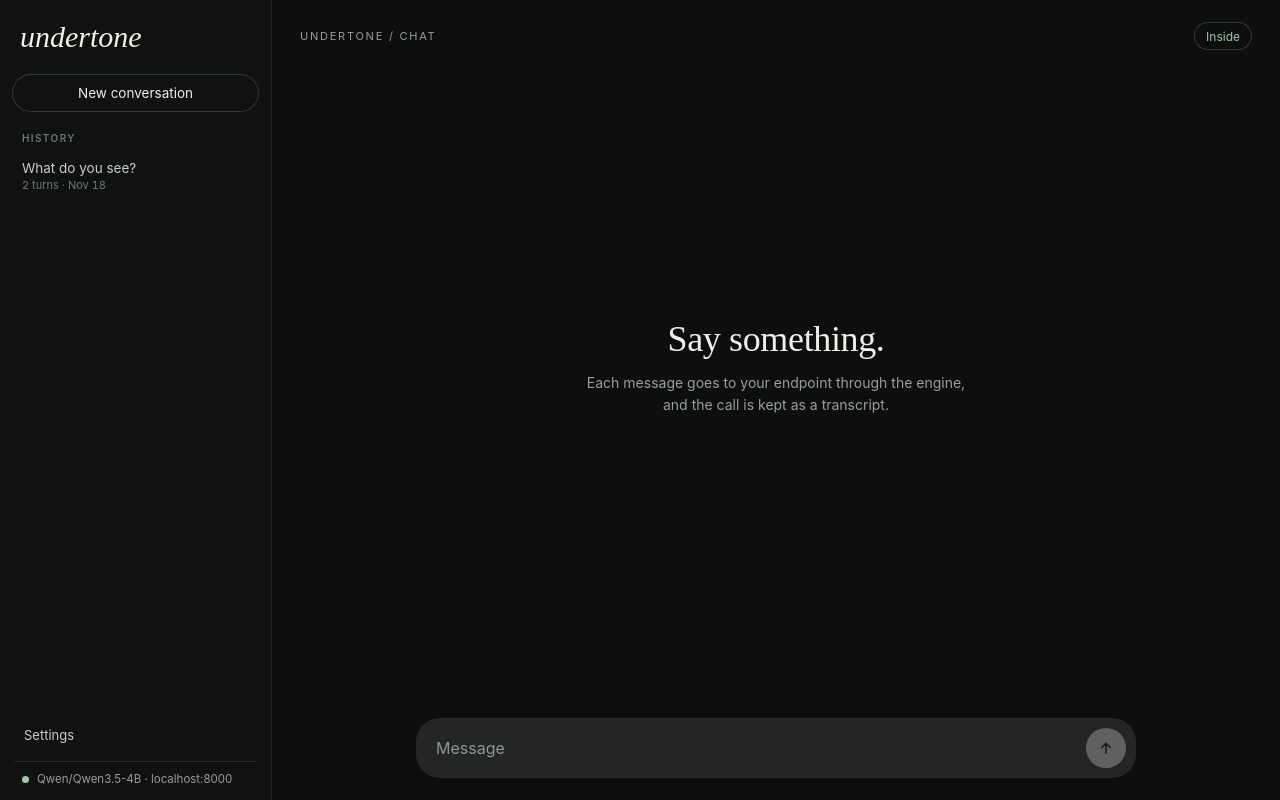
Test: Inside the model › turns to a word while it is pointed at, and keeps to one that is pressed
Click the button "What do you see? 2 turns · Nov 18" at (136, 176), box [12, 152, 259, 200]
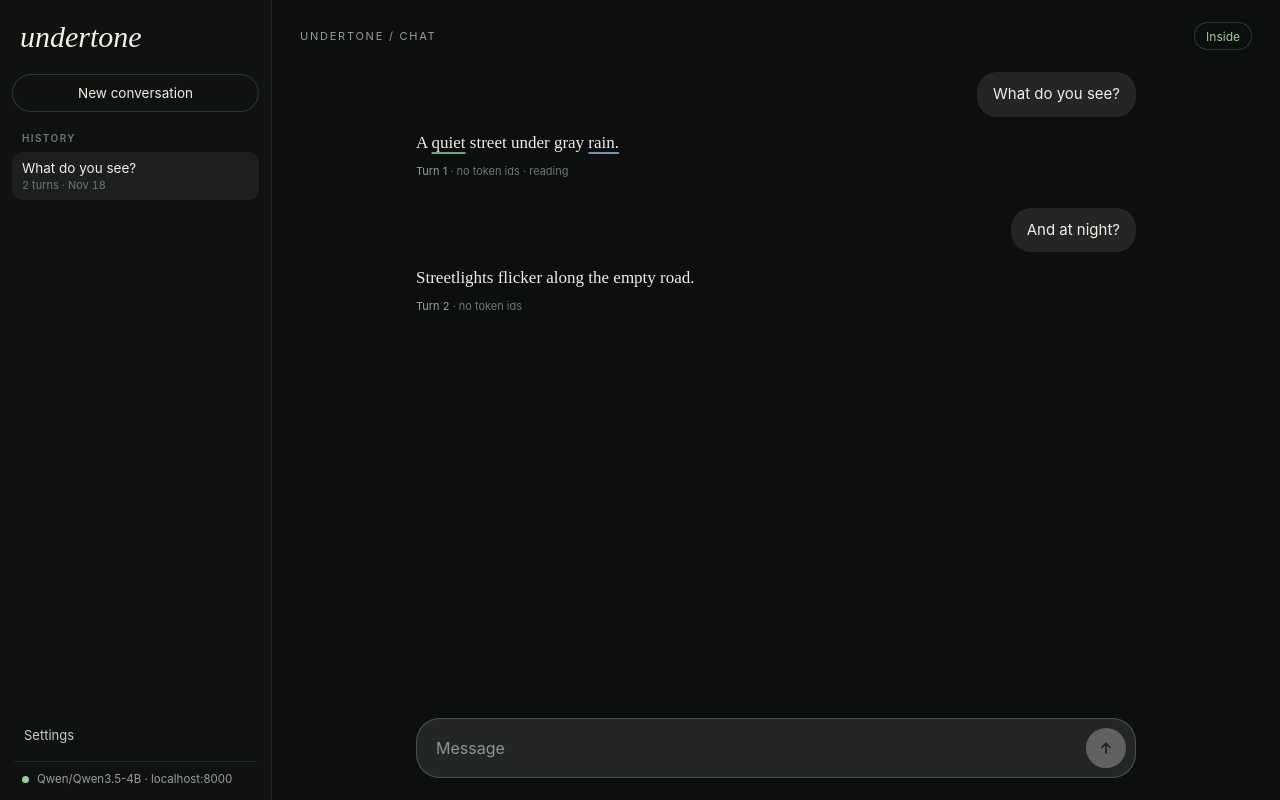
Expected: the text "And at night?" is shown, [1011, 208, 1136, 252]
Click the button "Inside" at (1223, 36), box [1194, 22, 1252, 50]
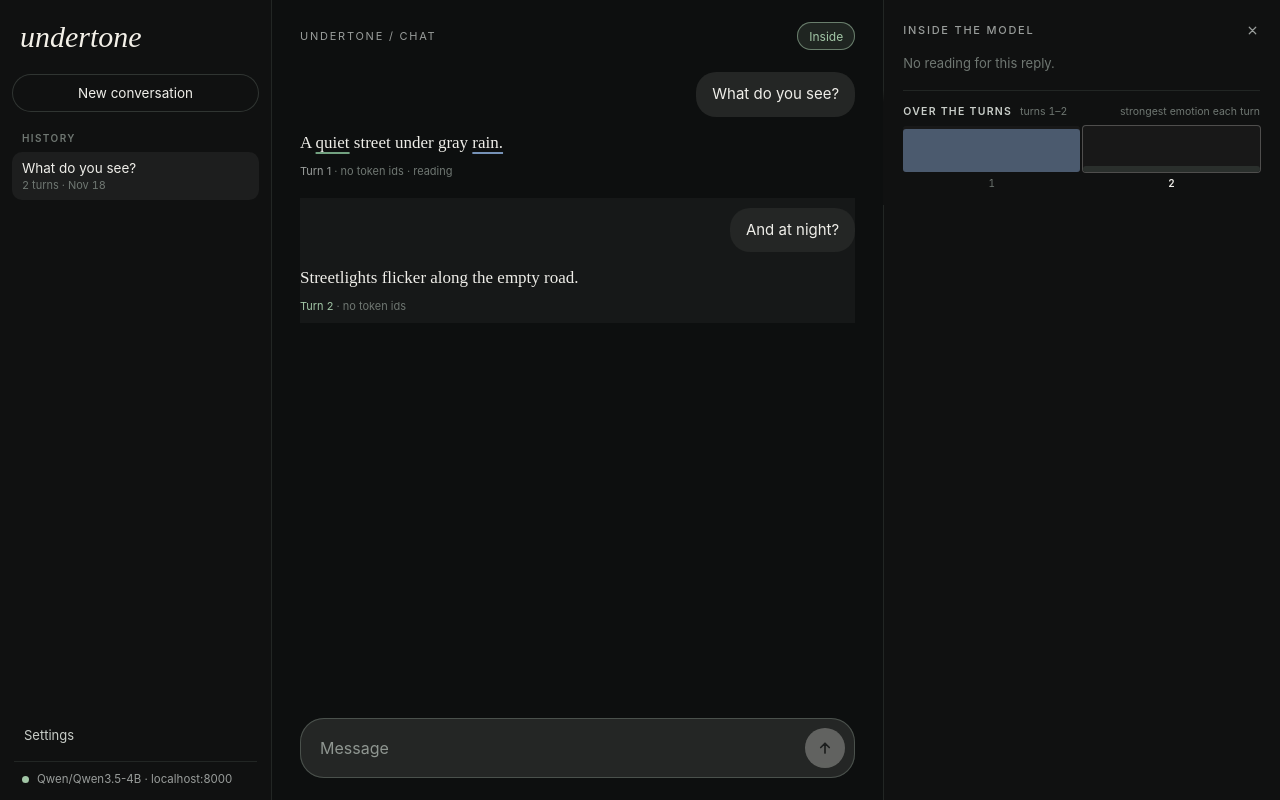
Expected: the element "Inside the model" shows "No reading for this reply.", [903, 55, 1055, 71]
Hover over the button with aria-label "quiet: calm, lonely" at (333, 142), box [316, 128, 350, 156]
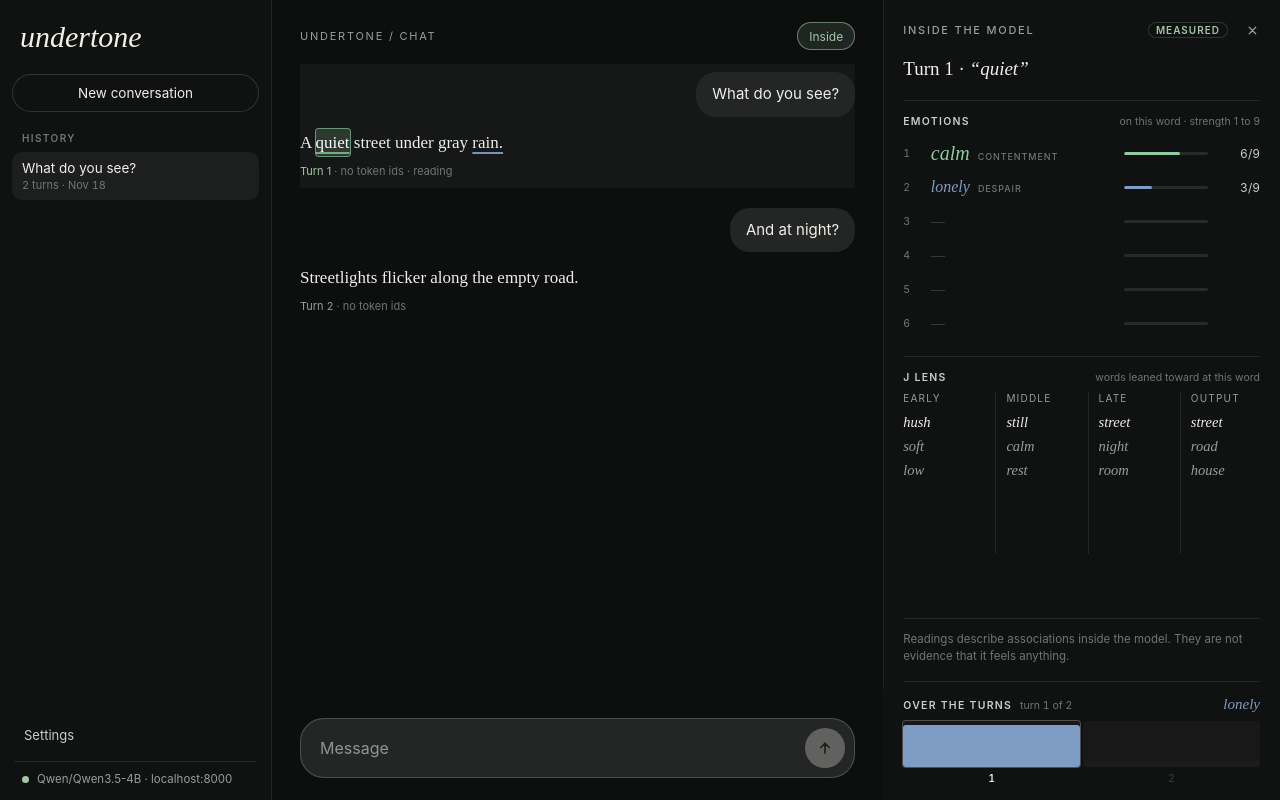
Expected: the element "Inside the model" shows "Turn 1 · “quiet”", [883, 0, 1279, 799]
Expected: the list items read "1calmContentment6/9", "2lonelyDespair3/9", in this order, [903, 136, 1260, 170]; [903, 178, 1260, 195]
Move the pointer off the button with aria-label "quiet: calm, lonely", box [316, 128, 350, 156]
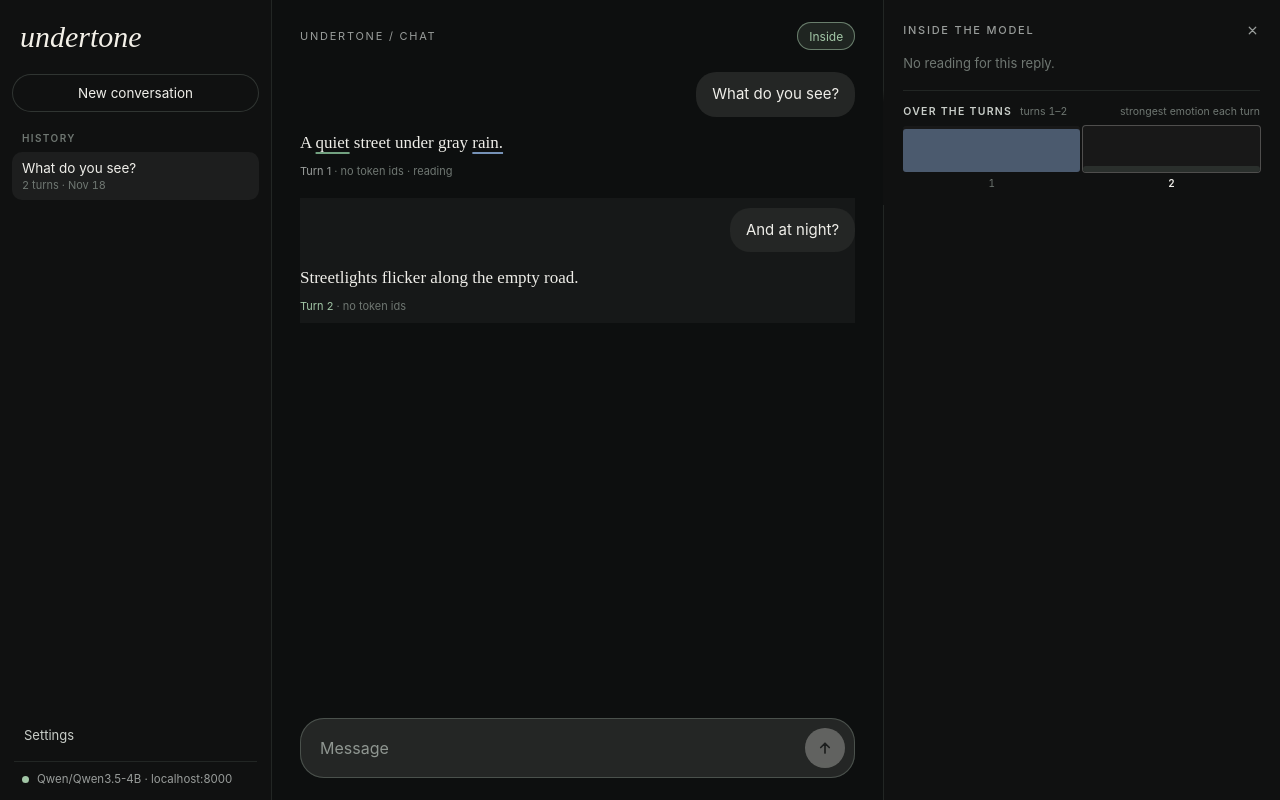
Expected: the element "Inside the model" shows "No reading for this reply.", [903, 55, 1055, 71]
Click the button with aria-label "rain.: lonely" at (488, 142), box [472, 128, 503, 156]
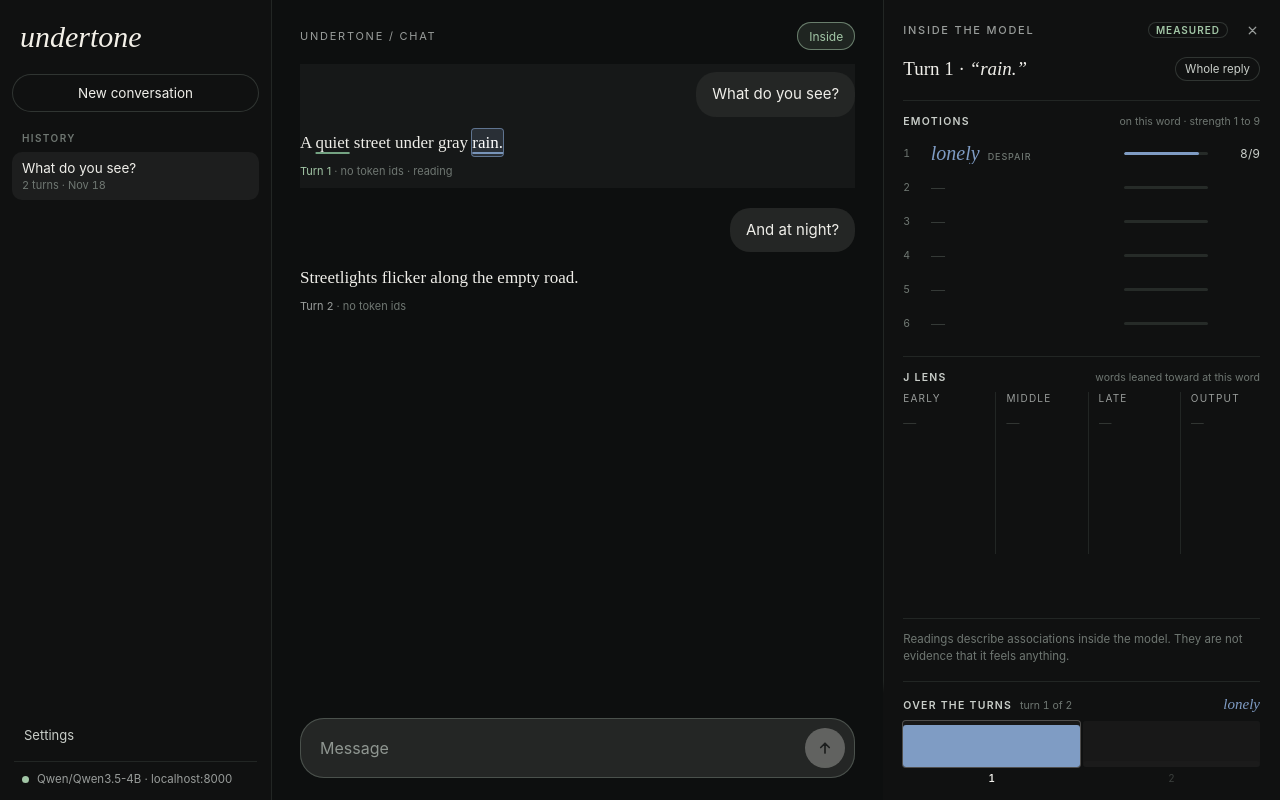
Move the pointer off the button with aria-label "rain.: lonely", box [472, 128, 503, 156]
Expected: the element "Inside the model" shows "Turn 1 · “rain.”", [883, 0, 1279, 799]
Expected: the list named "early words" reads "—", [903, 414, 916, 430]
Click the button "Whole reply" at (1218, 69), box [1175, 57, 1260, 81]
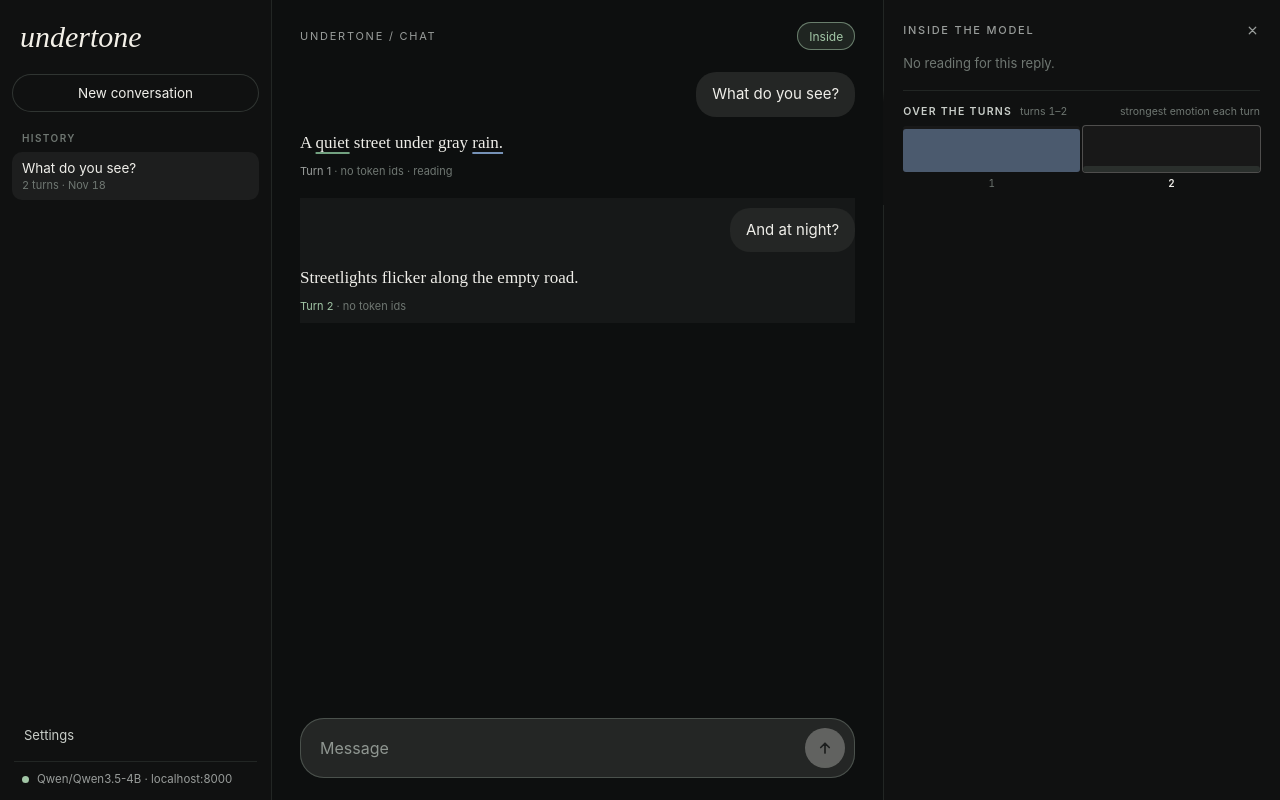
Expected: the element "Inside the model" shows "No reading for this reply.", [903, 55, 1055, 71]
